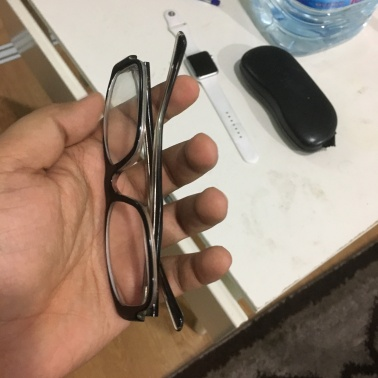glasses: (96, 43, 180, 327)
